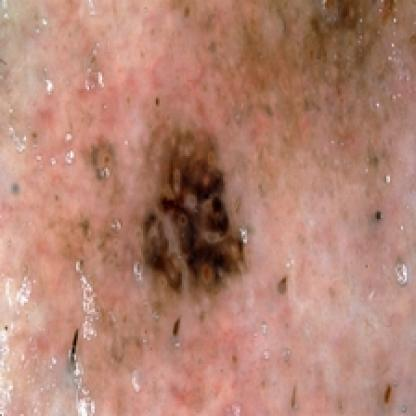Skin_Cancer-Malignant: (136, 129, 252, 304)
